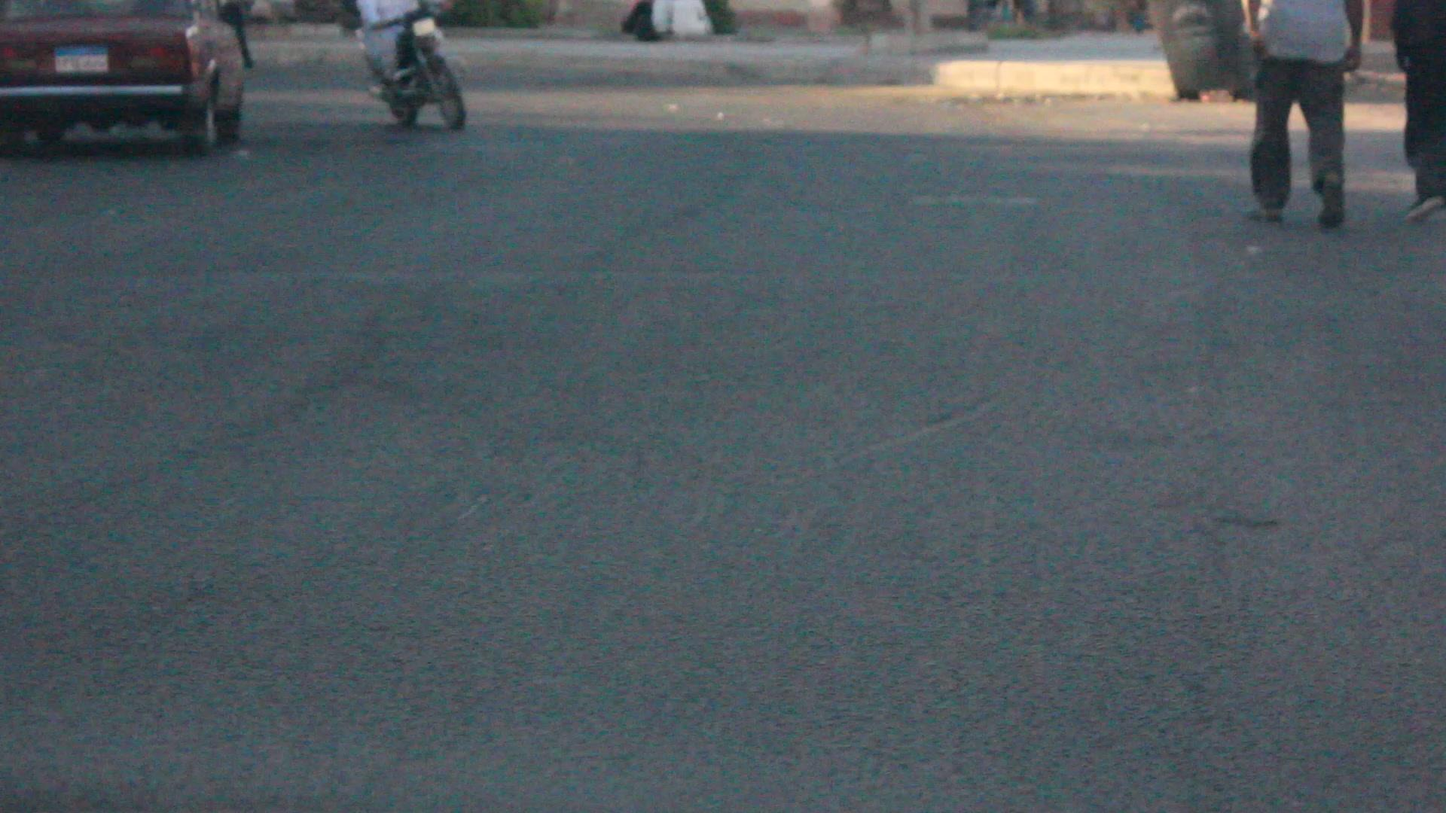Bump: (0, 263, 1446, 420)
